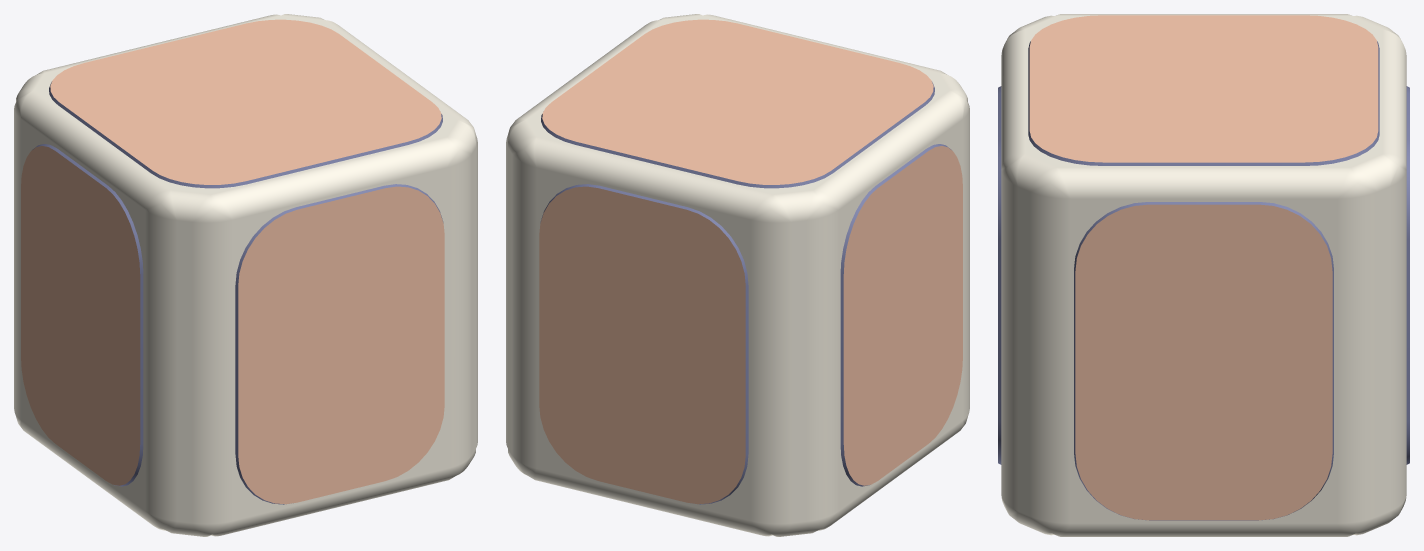
Rendered from R4B_OctColumn.fbx.
3 renders of one model, left to right at view 1: azimuth 30°, elevation 25°; view 2: azimuth 150°, elevation 25°; view 3: azimuth 270°, elevation 25°, orthographic. The views are drawn at different scales.
Visible parts, largest first — view 1: R4B_OctColumn; view 2: R4B_OctColumn; view 3: R4B_OctColumn.
Part boxes in pixels (bbox=[...]): R4B_OctColumn: bbox=[14, 14, 477, 536]; R4B_OctColumn: bbox=[506, 14, 969, 536]; R4B_OctColumn: bbox=[998, 14, 1409, 536].
Size of the model in its own units: 0.52 by 0.52 by 0.52.
